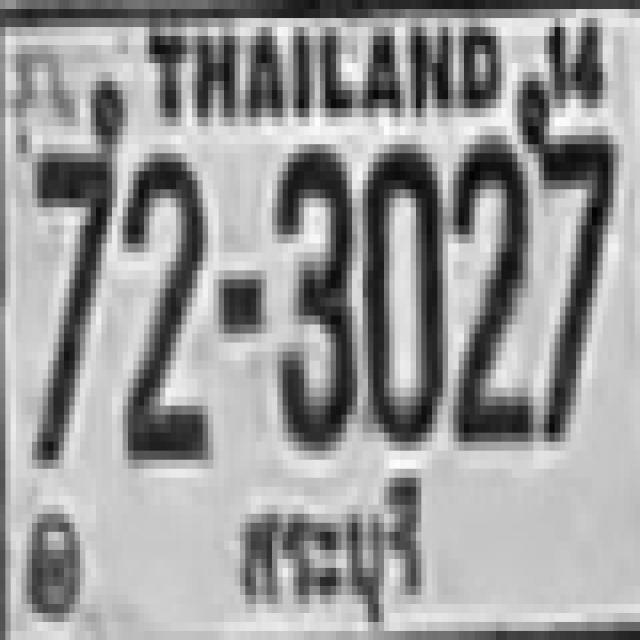0: (363, 140, 437, 437)
2: (120, 149, 205, 455), (448, 131, 523, 437)
3: (272, 144, 352, 442)
7: (30, 144, 110, 460), (534, 126, 614, 433)
SaraBuri: (232, 473, 437, 640)
